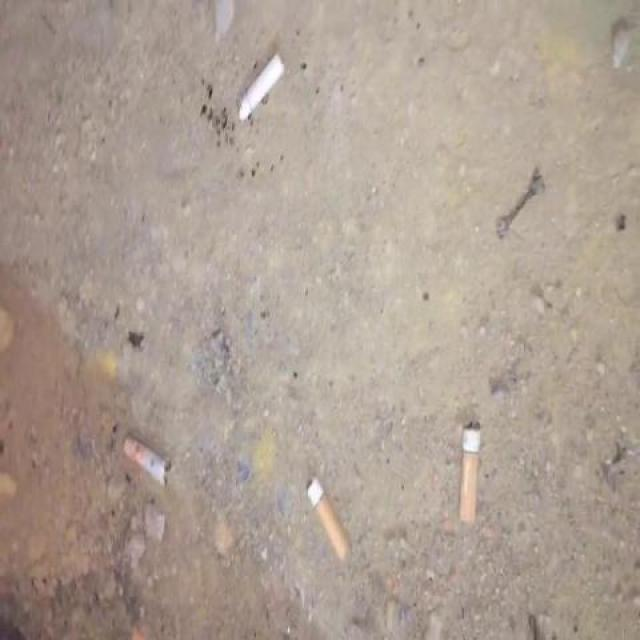non-organic waste: (300, 472, 360, 573), (119, 424, 182, 493), (238, 53, 287, 130), (455, 418, 485, 529)
